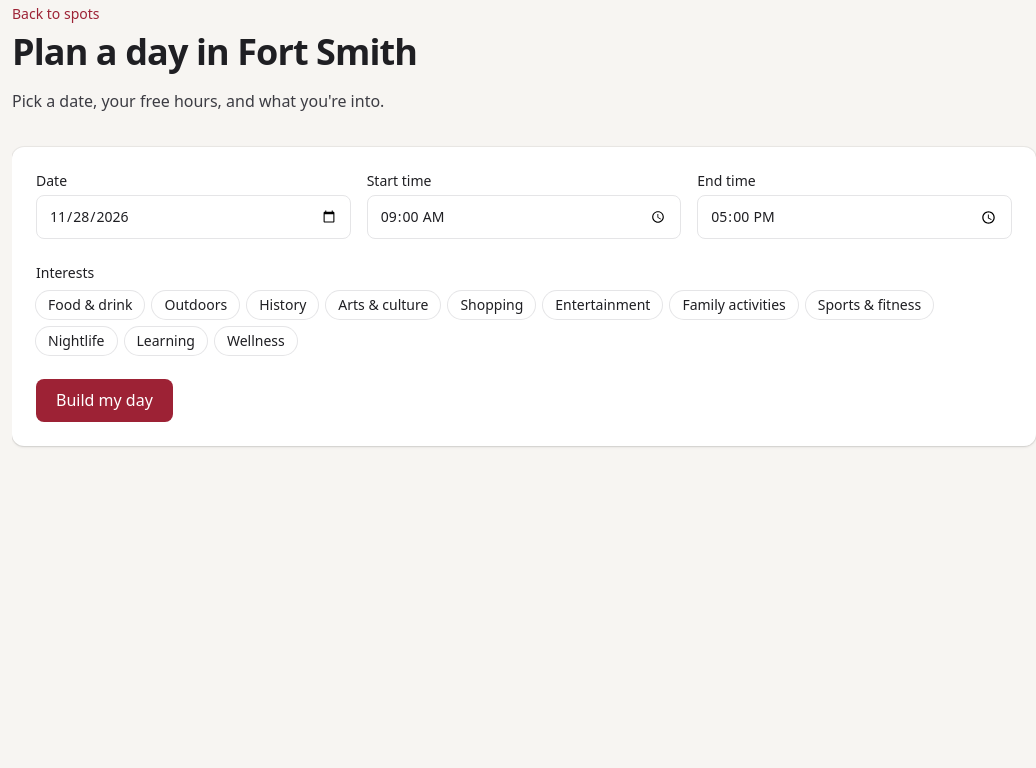
Scenario: uses the AI plan when the AI answers
The width and height of the screenshot is (1036, 768).
Click the button "Build my day" at (104, 401), box [36,379,173,422]
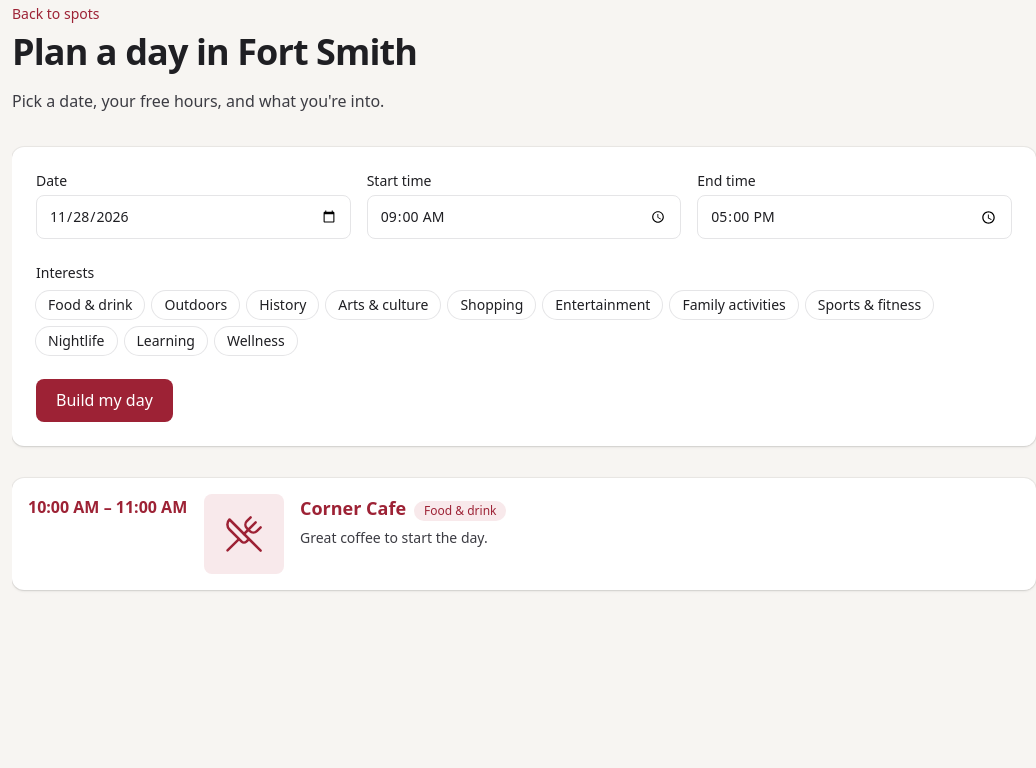
Expected: the text "Great coffee to start the day." is shown, [300,528,506,548]
